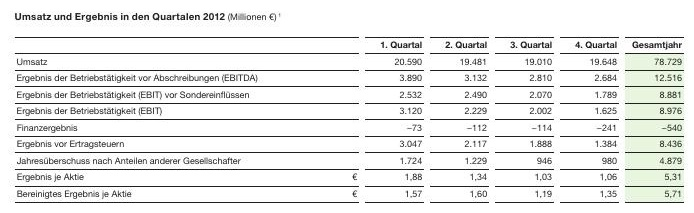table: (0, 0, 694, 213)
